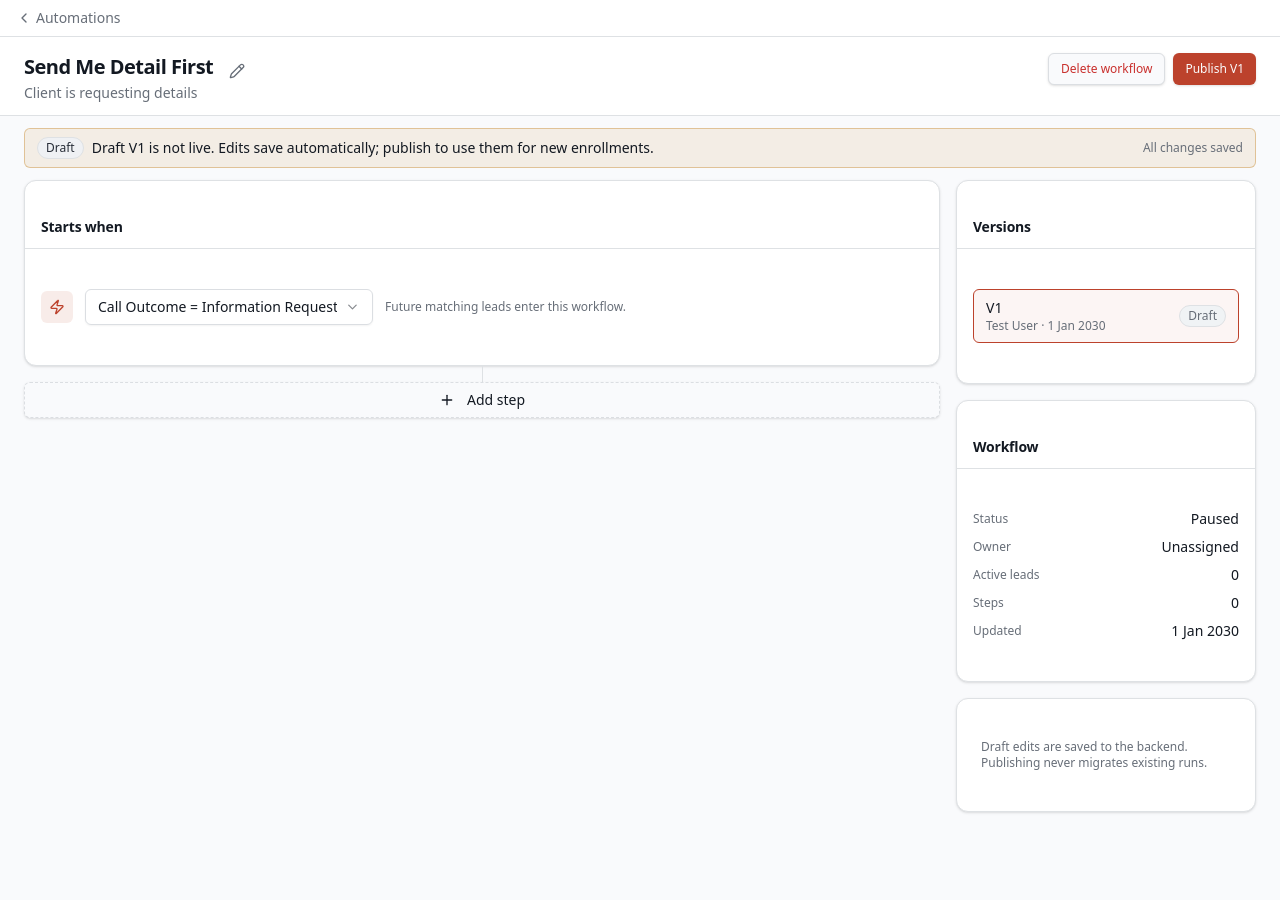
Test: WorkflowBuilderPage details editor › cancels edits and restores display mode
Click the button named "Edit workflow details": (237, 71) [221, 55, 253, 87]
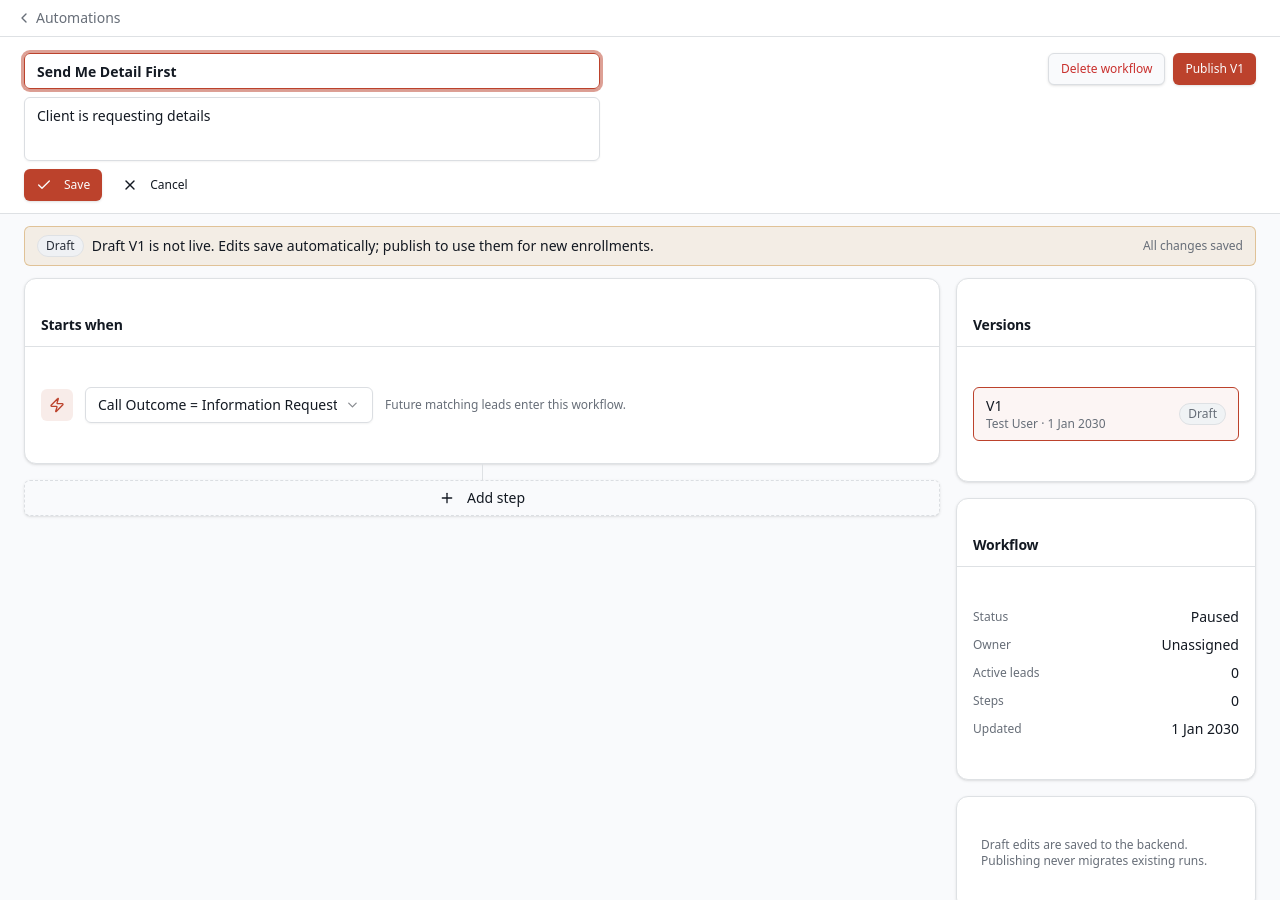
Replace the text in the field named "Workflow name" with "Changed locally": (312, 71) [24, 53, 600, 89]
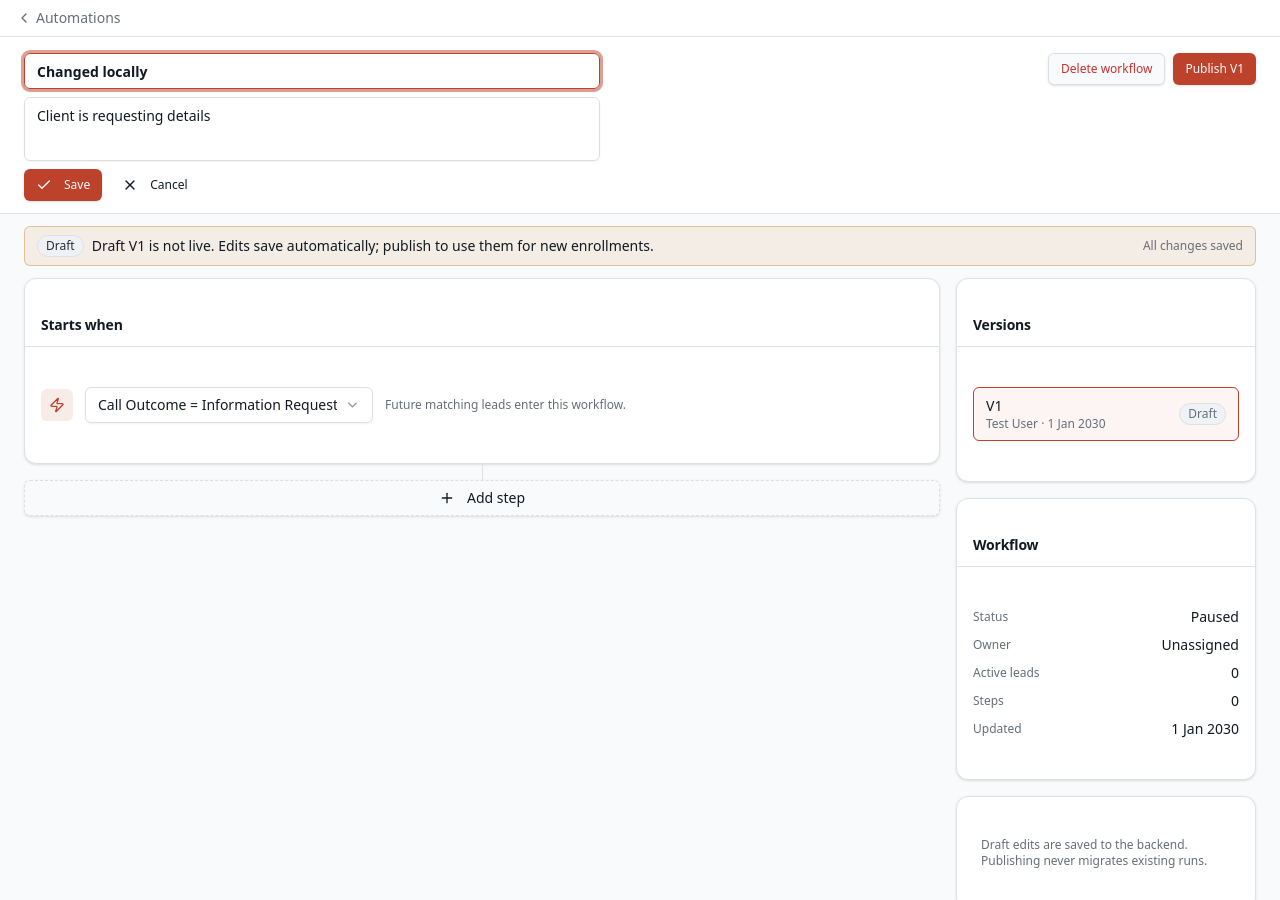
Click the button "Cancel": (155, 185) [110, 169, 200, 201]
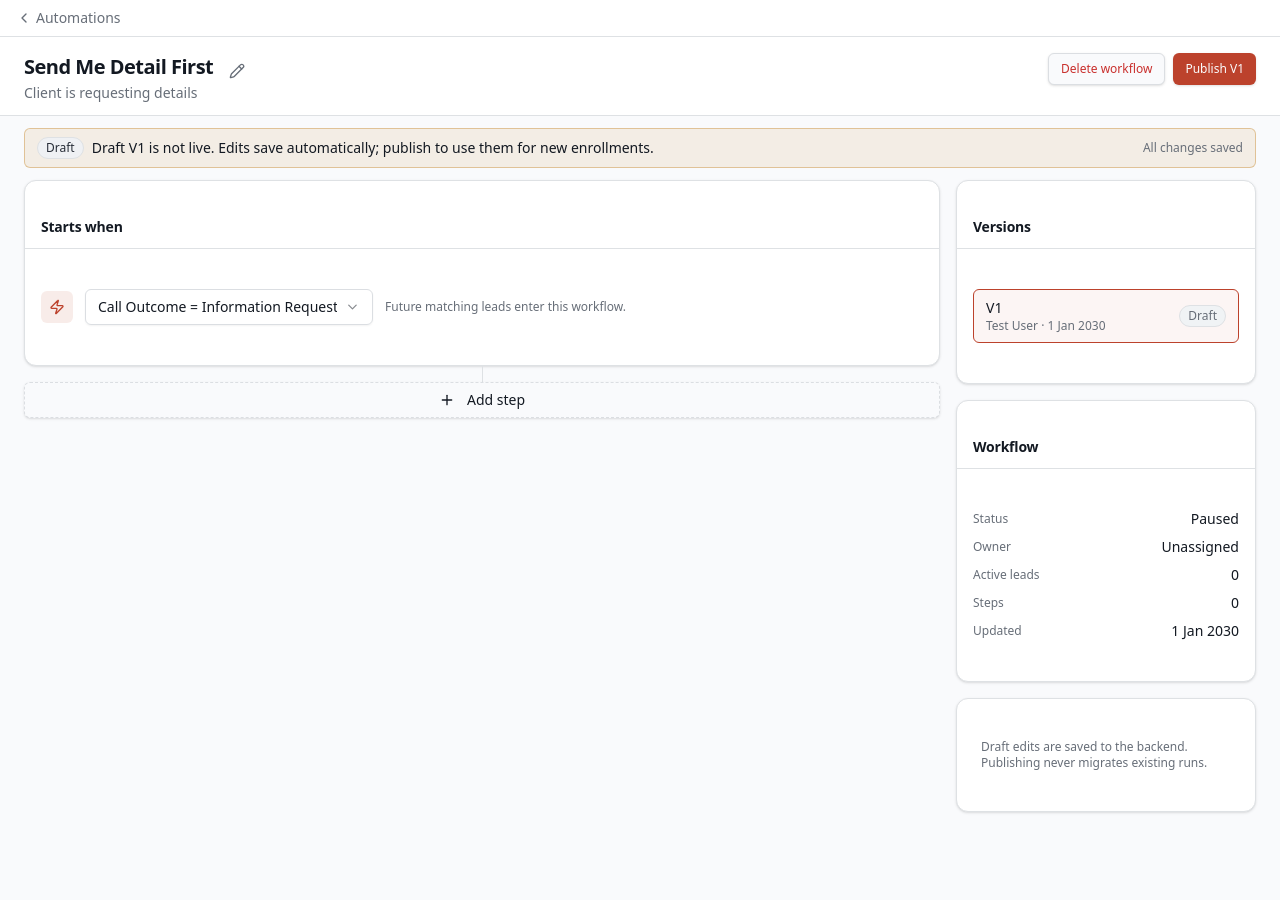
Expected: the heading "Send Me Detail First" is shown, [24, 53, 213, 81]
